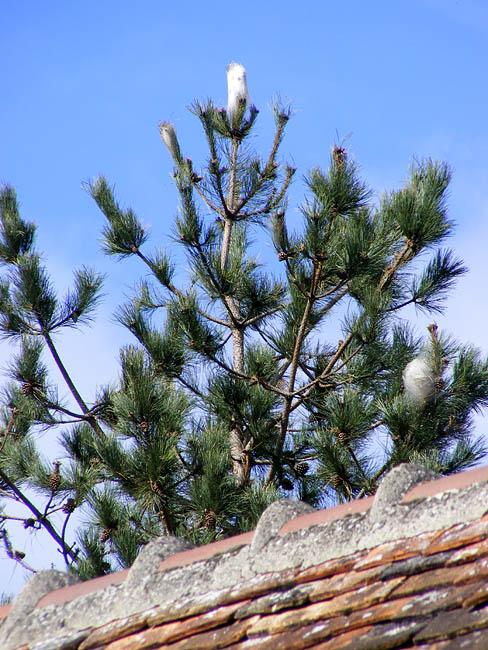thaumatopoea pityocampa jajno gnijezdo: (397, 323, 448, 408), (224, 59, 252, 133)
